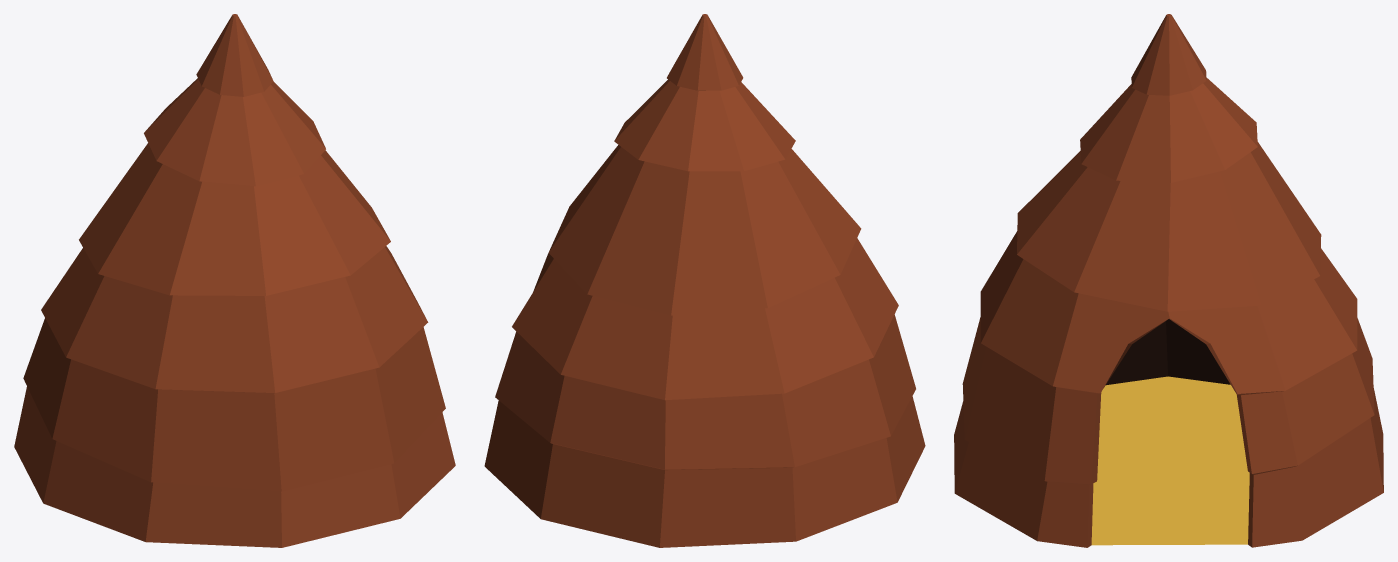
File: casa2.fbx
3 views of the same model, side by side, from view 1: azimuth 30°, elevation 25°; view 2: azimuth 150°, elevation 25°; view 3: azimuth 270°, elevation 25° (orthographic).
Parts seen in each view (by area): view 1: Circle.002; view 2: Circle.002; view 3: Circle.002.
Part boxes in pixels (x1,y1,x2,y2): Circle.002: [14, 14, 455, 547]; Circle.002: [484, 14, 925, 547]; Circle.002: [954, 14, 1383, 547].
Bounding box in the file's own units: 284 × 333 × 288.
